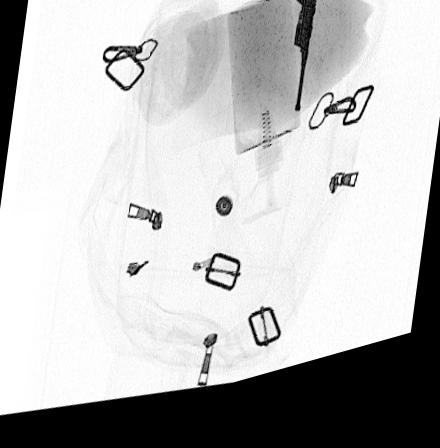Gun: (287, 0, 319, 129)
